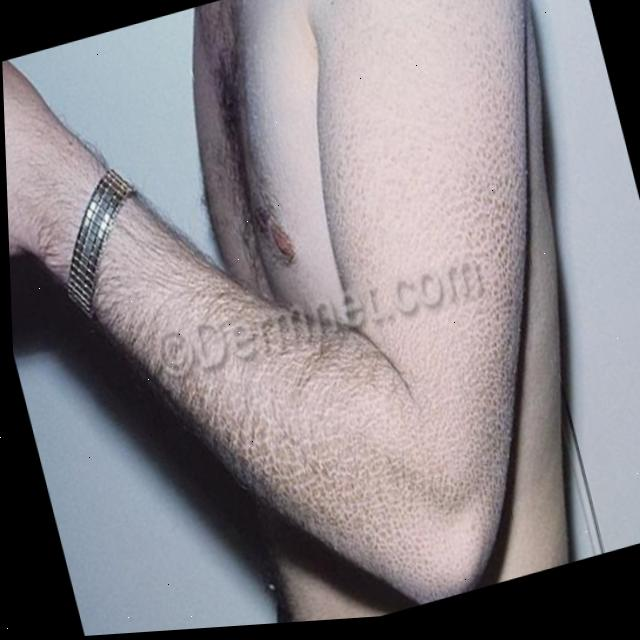Eczema: (142, 289, 385, 582), (397, 86, 561, 393)
